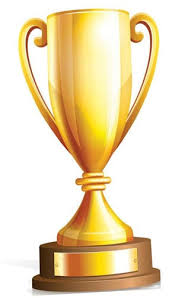trophy: (17, 7, 167, 291)
